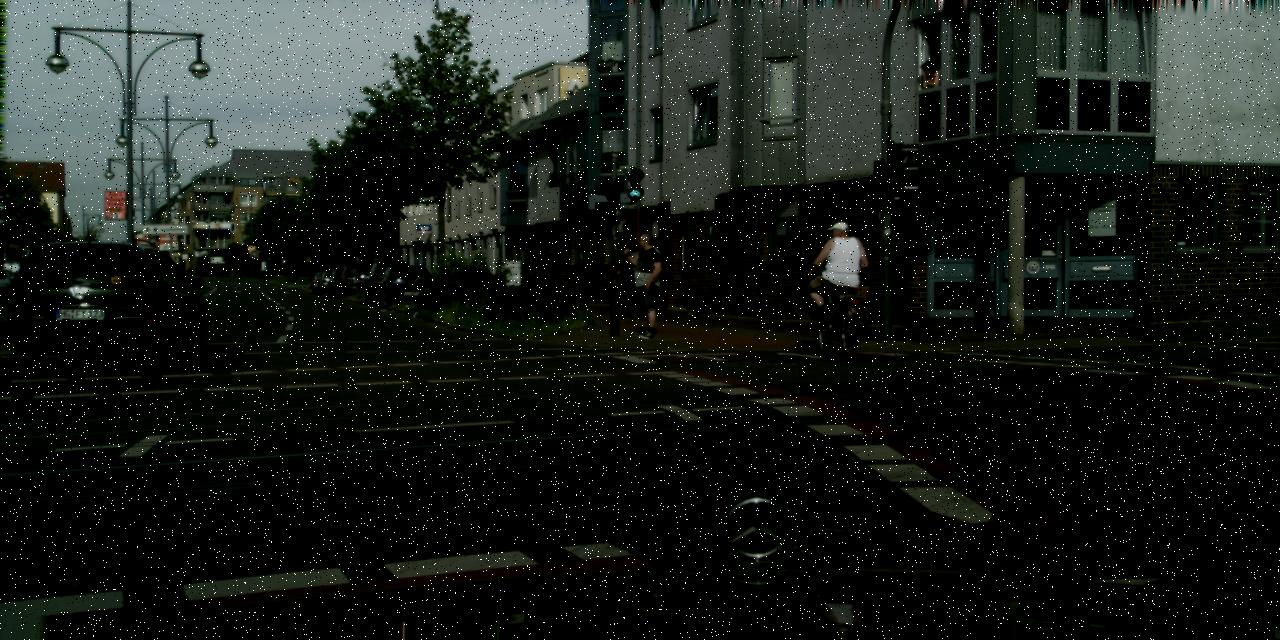ped: (818, 222, 864, 334), (627, 234, 669, 337)
